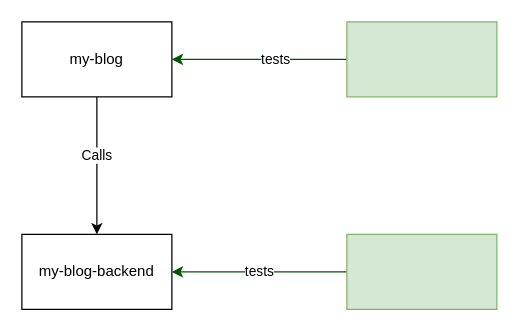
Image size: 519x331. Some labels were removed from this diagram. Each missing label, with the centre of its shape:
backend-tests (under e2e-tests): the point at 421,271
fe-tests-cypress (under e2e-tests/frontend-tests): the point at 421,59
